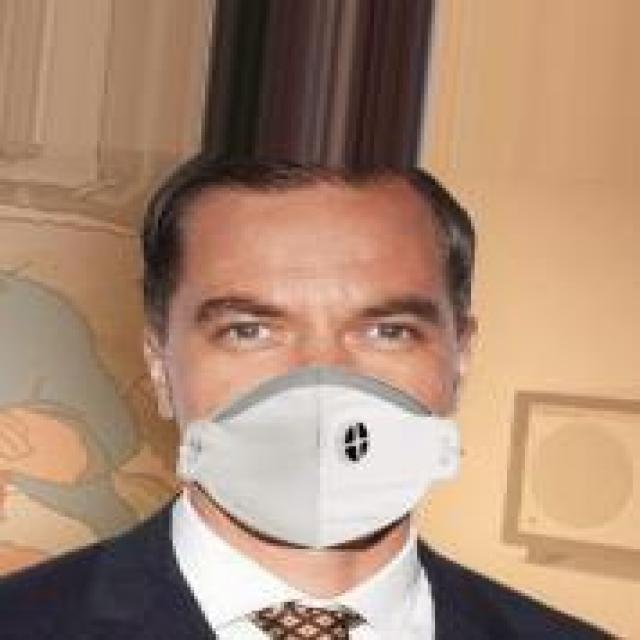mask: (86, 88, 507, 540)
